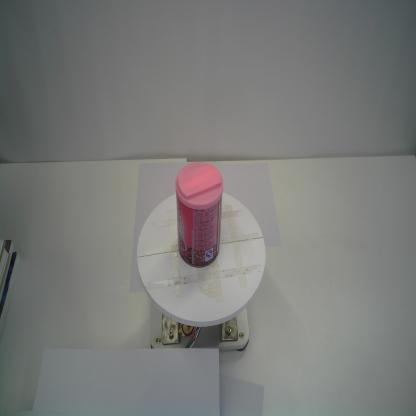Canned Food: (174, 161, 225, 270)
